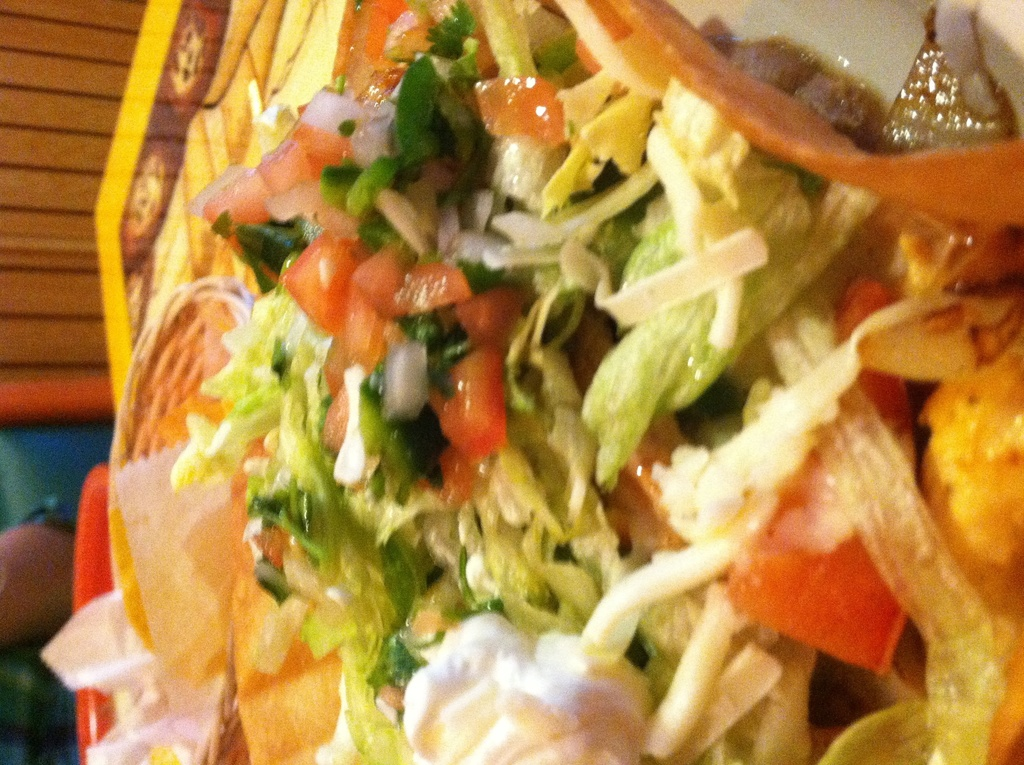salad: (35, 0, 1023, 764)
